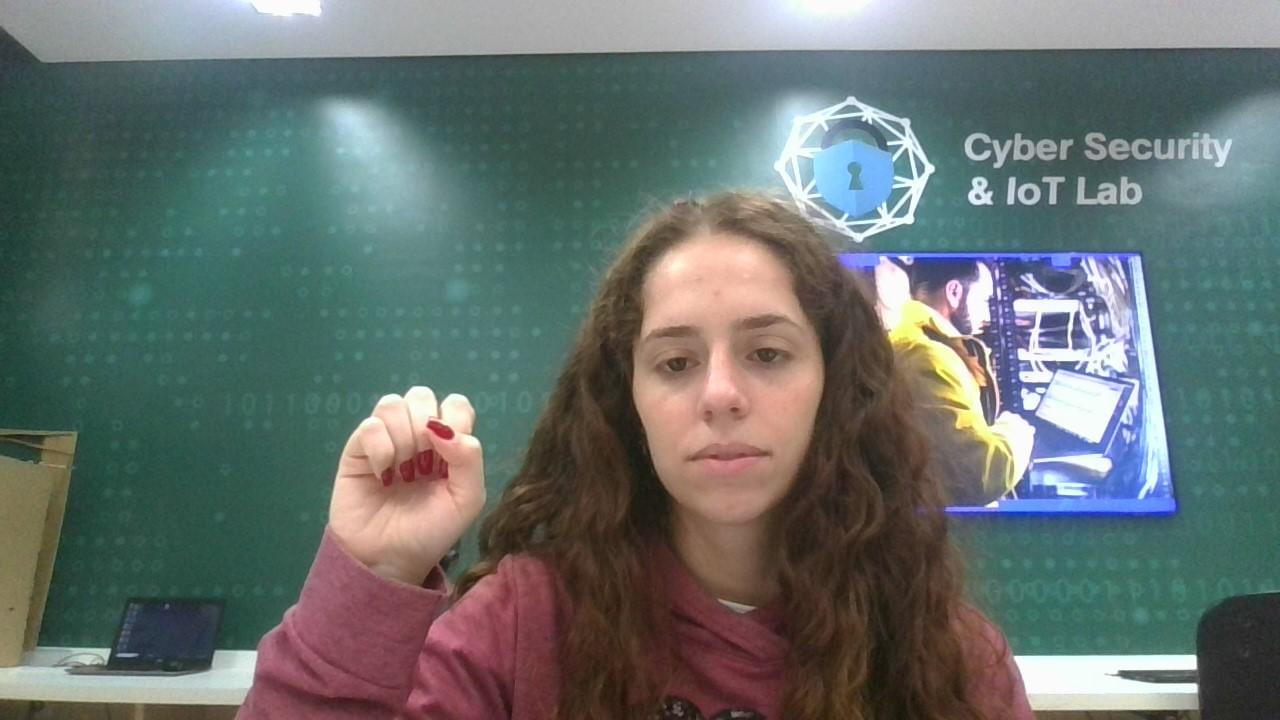S: (325, 368, 505, 595)
